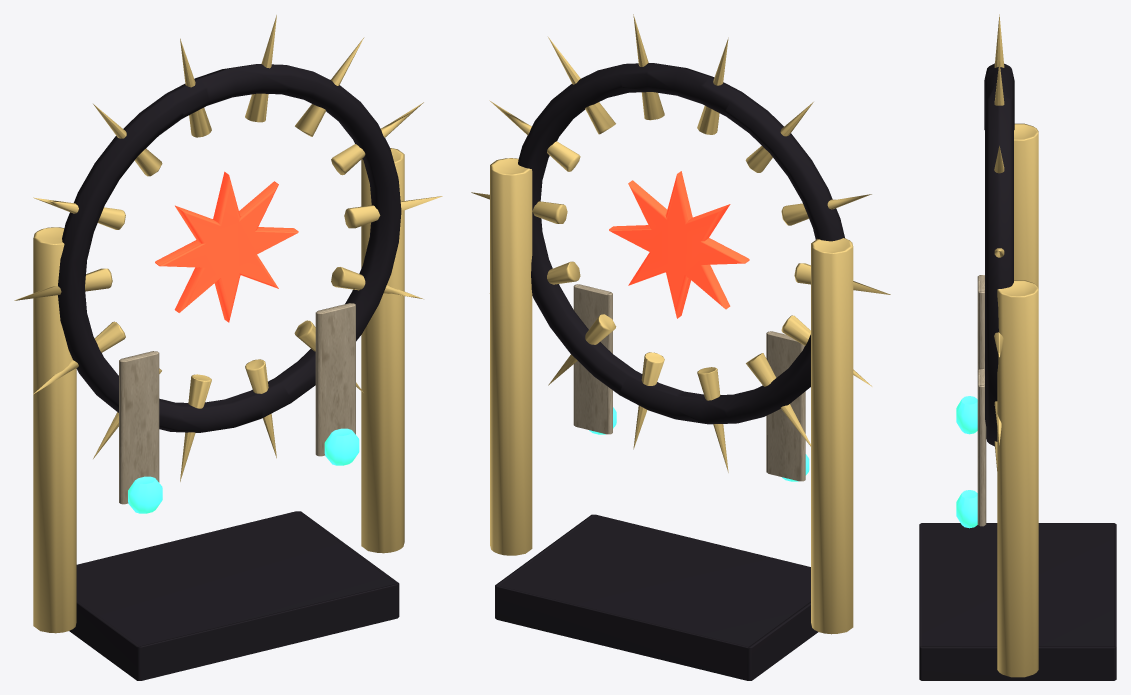
The model's file is BlackSunReliquary.glb.
The picture shows the model from 3 angles, left to right: view 1: azimuth 30°, elevation 25°; view 2: azimuth 150°, elevation 25°; view 3: azimuth 270°, elevation 25°; orthographic projection. The views are drawn at different scales.
Visible parts, largest first — view 1: BlackSunReliquary; view 2: BlackSunReliquary; view 3: BlackSunReliquary.
Part boxes in pixels (<box>): BlackSunReliquary: <box>14,15,442,680</box>; BlackSunReliquary: <box>471,14,890,680</box>; BlackSunReliquary: <box>919,14,1116,680</box>.
Size of the model in its own units: 0.7833 by 1.04 by 0.32.
Materials: 5 (1 with a texture image).
